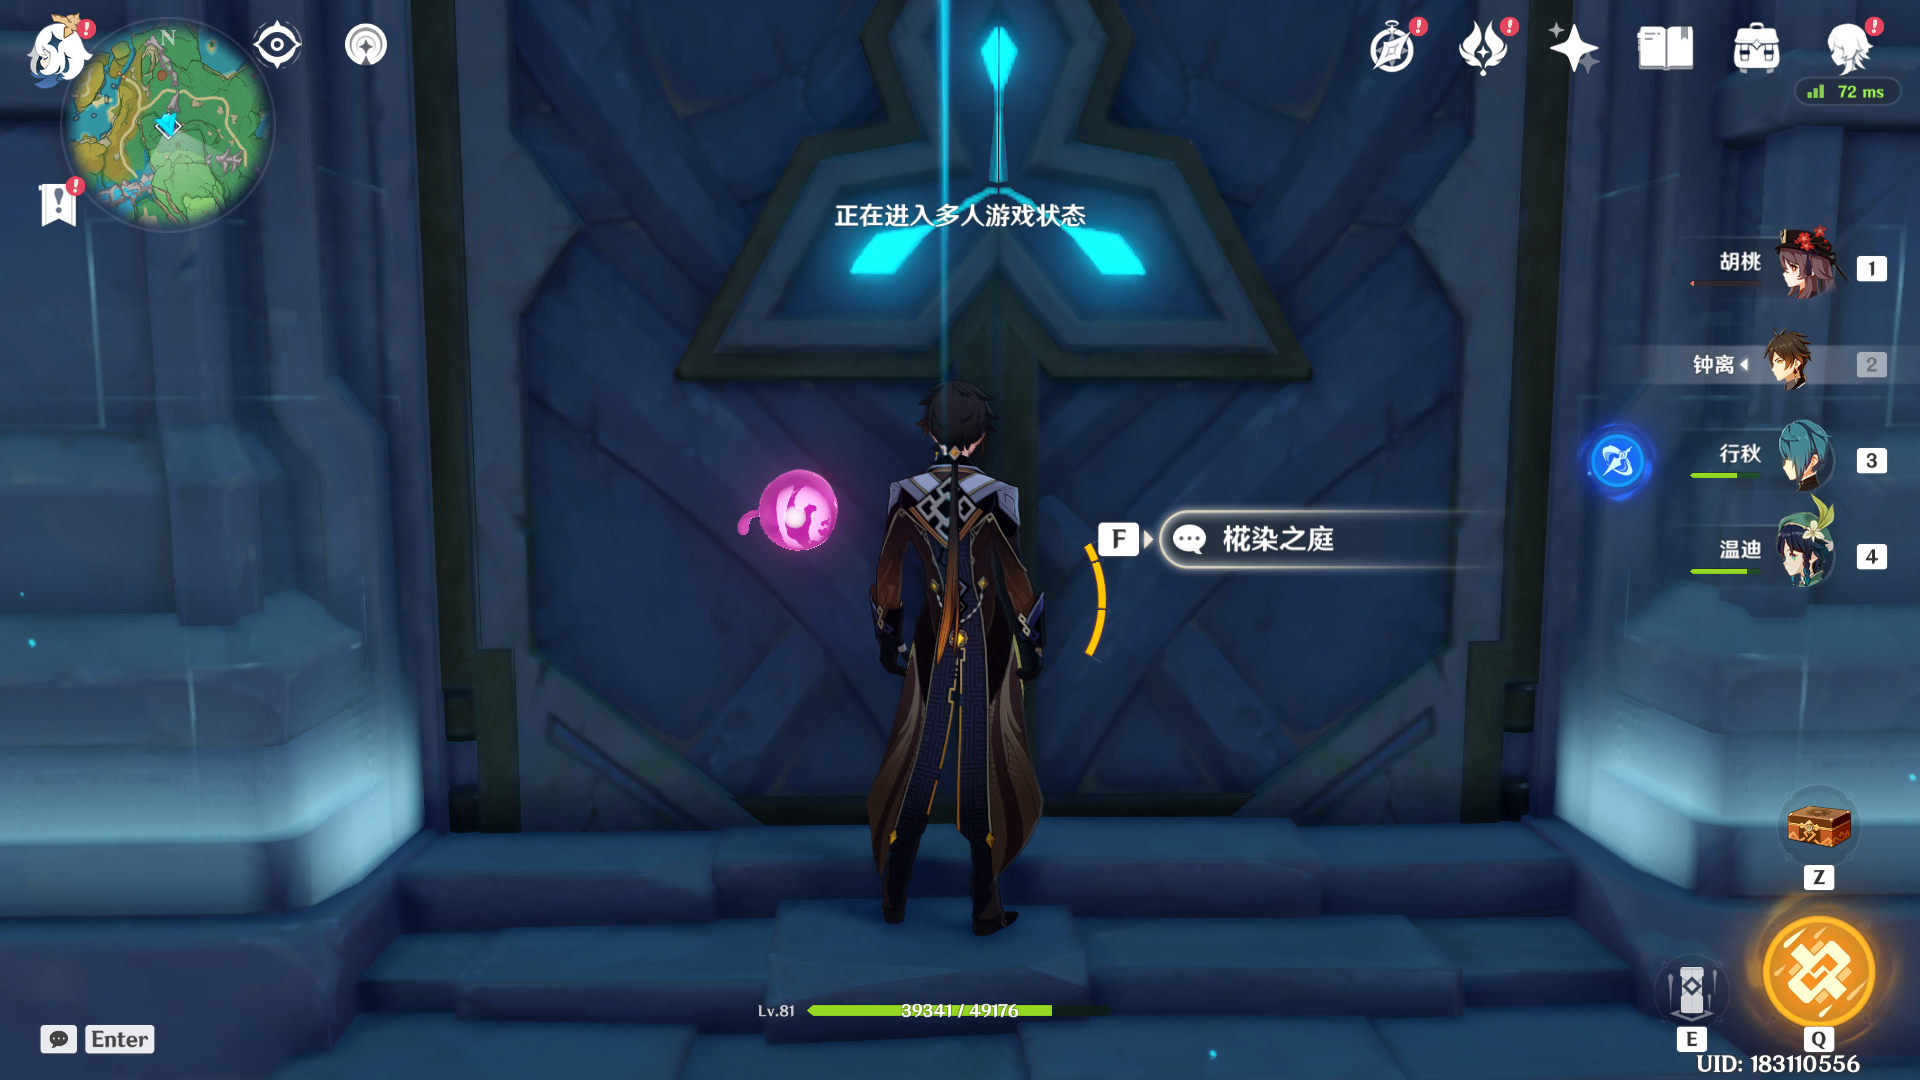character: (836, 385, 1101, 960)
